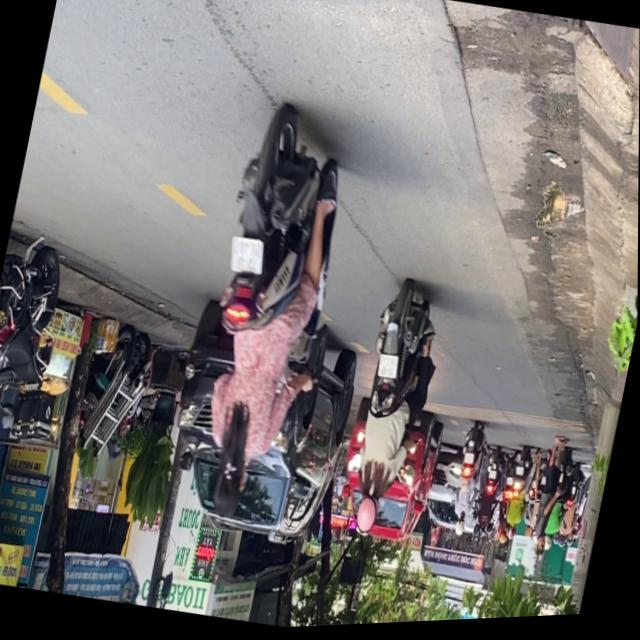helmet: (351, 494, 380, 538)
licenseplate: (170, 100, 365, 535), (334, 281, 451, 547)
motorcyclist: (209, 459, 249, 521)
nohelmet: (226, 237, 266, 279), (376, 356, 399, 383)
